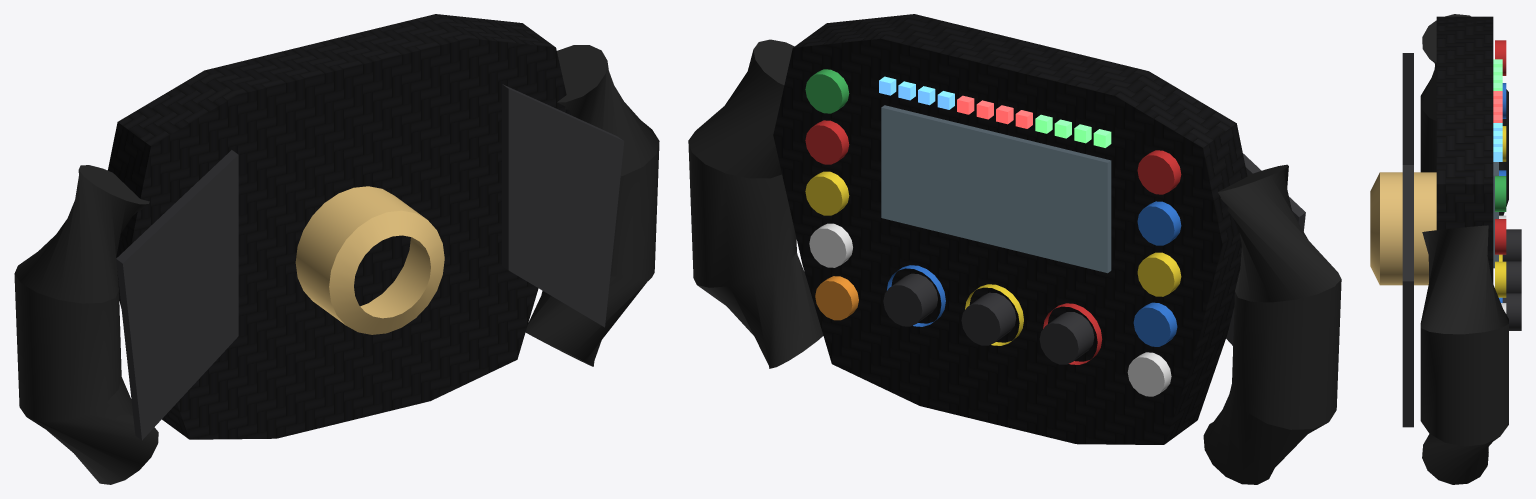
File: steering_wheel.glb
3 renders of one model, left to right at view 1: azimuth 30°, elevation 25°; view 2: azimuth 150°, elevation 25°; view 3: azimuth 270°, elevation 25°, orthographic. The views are drawn at different scales.
Parts seen in each view (by area): view 1: steering_wheel_Carbon, steering_wheel_CarbonMatte, steering_wheel_Rubber, steering_wheel_RimGold; view 2: steering_wheel_Carbon, steering_wheel_Rubber, steering_wheel_Screen, steering_wheel_CarbonMatte, steering_wheel_BtnRed, steering_wheel_BtnYellow, steering_wheel_BtnBlue, steering_wheel_BtnWhite, steering_wheel_BtnGreen, steering_wheel_BtnOrange, steering_wheel_LedGreen, steering_wheel_LedRed (+1 smaller); view 3: steering_wheel_Rubber, steering_wheel_Carbon, steering_wheel_CarbonMatte, steering_wheel_RimGold, steering_wheel_BtnRed, steering_wheel_BtnYellow, steering_wheel_BtnGreen, steering_wheel_LedBlue, steering_wheel_Screen, steering_wheel_LedGreen, steering_wheel_LedRed, steering_wheel_BtnBlue.
Part boxes in pixels (x1,y1,x2,y2): steering_wheel_Carbon: [107, 14, 570, 439]; steering_wheel_CarbonMatte: [116, 84, 624, 440]; steering_wheel_Rubber: [14, 45, 659, 484]; steering_wheel_RimGold: [295, 186, 444, 334]; steering_wheel_Carbon: [773, 14, 1247, 444]; steering_wheel_Rubber: [688, 39, 1341, 484]; steering_wheel_Screen: [881, 105, 1111, 273]; steering_wheel_CarbonMatte: [883, 153, 1305, 364]; steering_wheel_BtnRed: [805, 120, 1181, 364]; steering_wheel_BtnYellow: [805, 171, 1181, 345]; steering_wheel_BtnBlue: [887, 201, 1181, 346]; steering_wheel_BtnWhite: [809, 223, 1171, 396]; steering_wheel_BtnGreen: [805, 69, 849, 113]; steering_wheel_BtnOrange: [815, 276, 858, 320]; steering_wheel_LedGreen: [1035, 114, 1111, 147]; steering_wheel_LedRed: [957, 95, 1032, 128]; steering_wheel_Rubber: [1420, 14, 1508, 484]; steering_wheel_Carbon: [1436, 16, 1493, 283]; steering_wheel_CarbonMatte: [1402, 53, 1521, 427]; steering_wheel_RimGold: [1370, 172, 1436, 285]; steering_wheel_BtnRed: [1495, 40, 1506, 254]; steering_wheel_BtnYellow: [1495, 126, 1506, 297]; steering_wheel_BtnGreen: [1495, 176, 1506, 211]; steering_wheel_LedBlue: [1493, 123, 1502, 161]; steering_wheel_Screen: [1493, 162, 1498, 268]; steering_wheel_LedGreen: [1493, 59, 1502, 90]; steering_wheel_LedRed: [1493, 91, 1502, 122]; steering_wheel_BtnBlue: [1499, 83, 1506, 302].
Bounding box in the file's own units: 0.3271 × 0.1806 × 0.08.
Materials: 14 (1 with a texture image).
